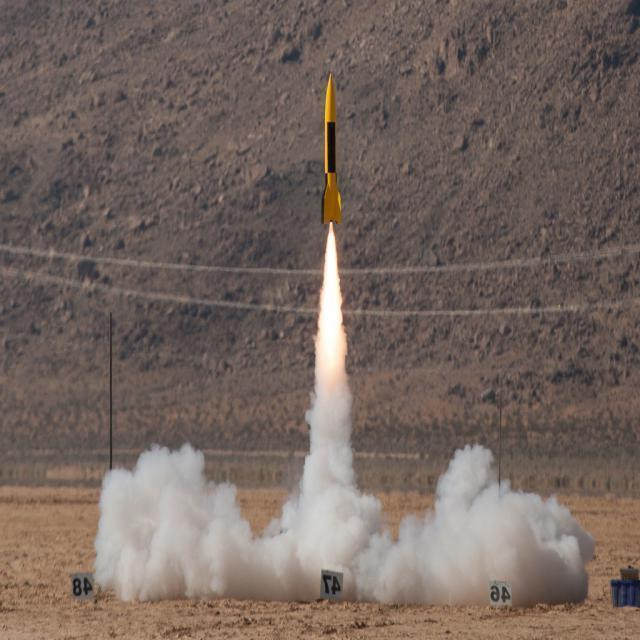missile: (319, 70, 346, 233)
